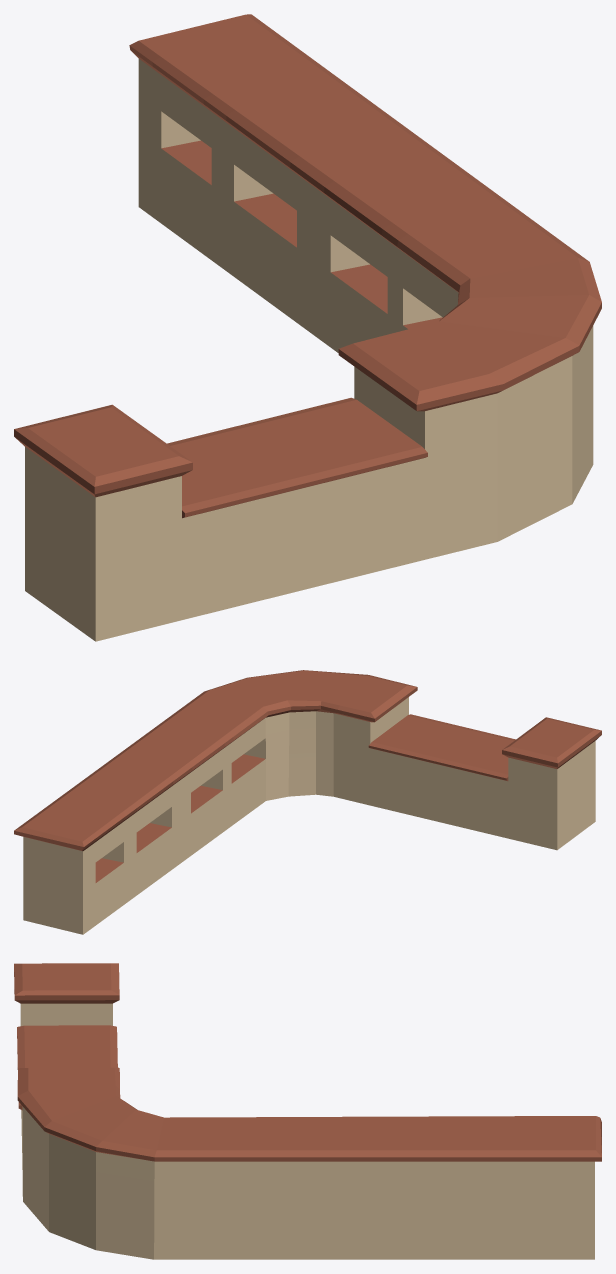
The model's file is counter.glb.
3 renders of one model, top to bottom at view 1: azimuth 30°, elevation 25°; view 2: azimuth 150°, elevation 25°; view 3: azimuth 270°, elevation 25°, orthographic. The views are drawn at different scales.
Parts seen in each view (by area): view 1: Cube; view 2: Cube; view 3: Cube.
Part boxes in pixels (x1,y1,x2,y2): Cube: (14,14,601,641); Cube: (14,670,601,934); Cube: (14,963,601,1259).
Bounding box in the file's own units: 19.36 × 5.13 × 24.74.
